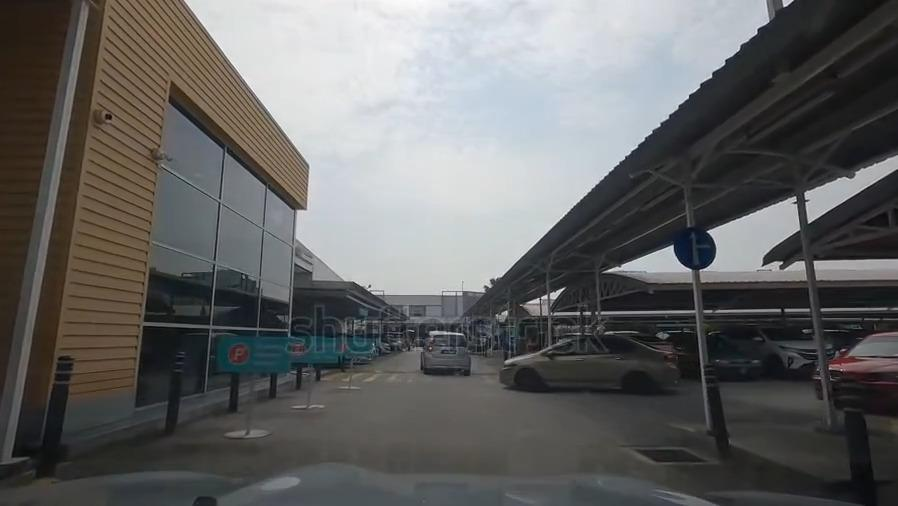car: (498, 335, 683, 392), (815, 334, 898, 410), (731, 324, 835, 371), (665, 327, 760, 375), (419, 331, 473, 373)
manhole: (629, 446, 712, 467)
pedestrian: (330, 374, 518, 382)
speedbump: (348, 363, 501, 375)
